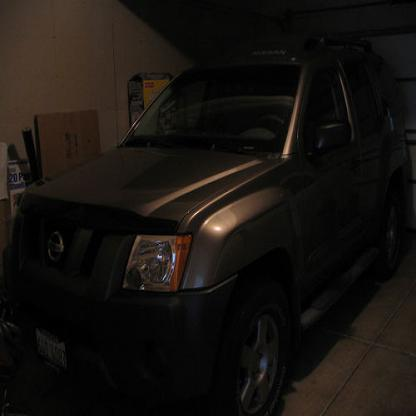car: (2, 38, 415, 414)
